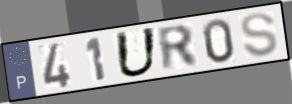0: (201, 17, 237, 66)
1: (85, 35, 109, 82)
4: (40, 41, 73, 90)
R: (155, 23, 202, 74)
S: (239, 11, 280, 59)
U: (113, 26, 159, 80)
